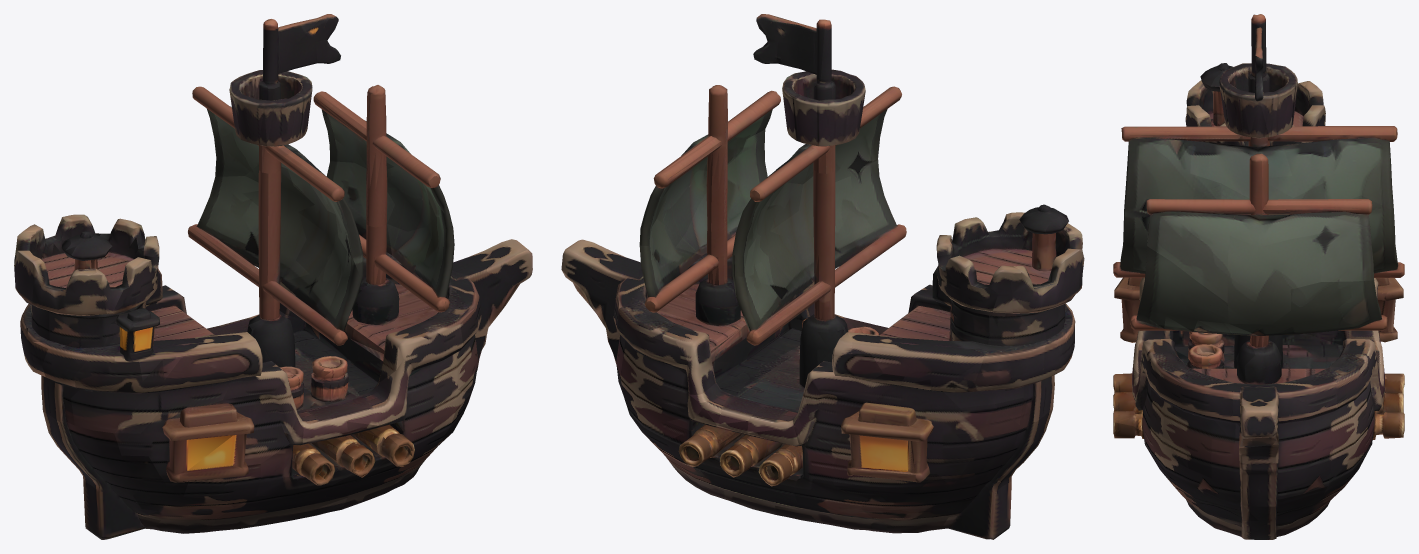
The model's file is map_enemigo.glb.
3 views of the same model, side by side, from view 1: azimuth 30°, elevation 25°; view 2: azimuth 150°, elevation 25°; view 3: azimuth 270°, elevation 25° (orthographic). The views are drawn at different scales.
Size of the model in its own units: 1 by 0.9004 by 0.5195.
1 material, 1 textured.
